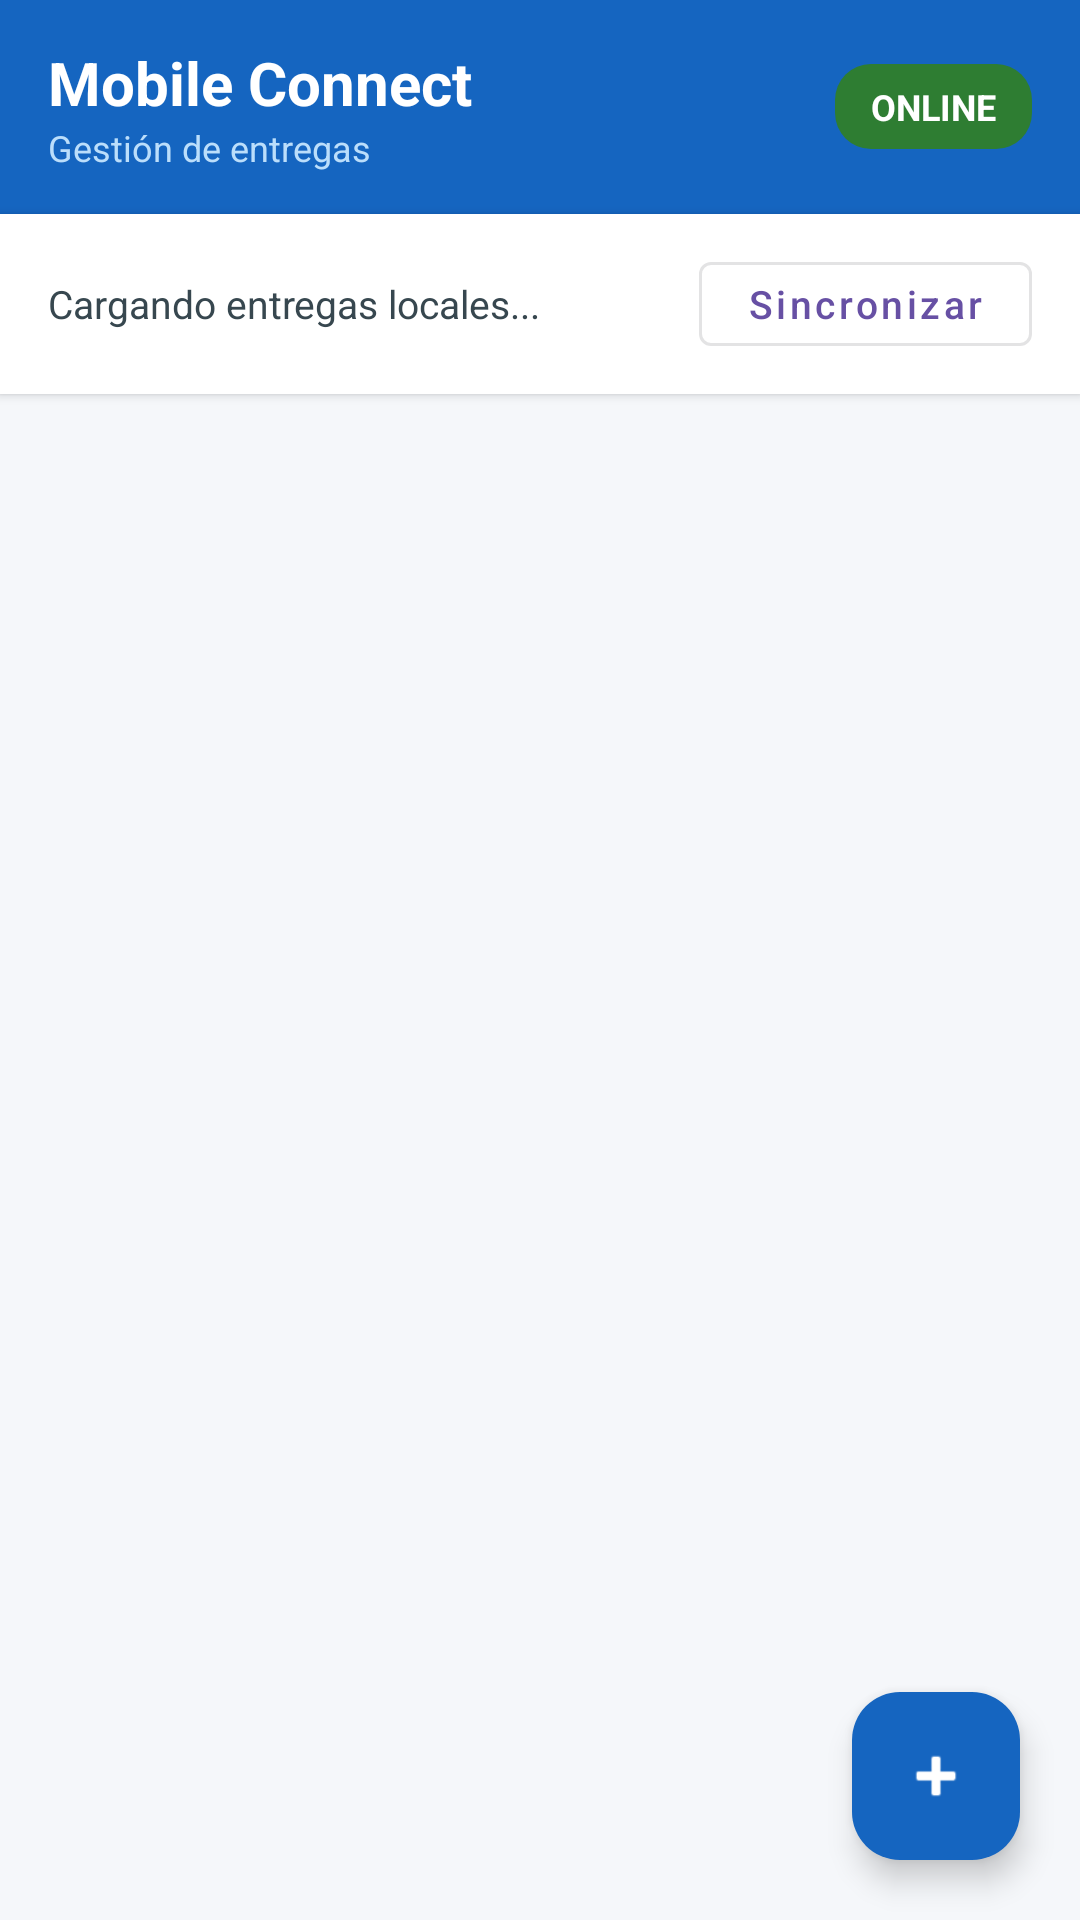

Point at icon controls on the screen. Image size 1080px×1920px, points as (x,y).
Añadir nueva entrega: (936,1776)
